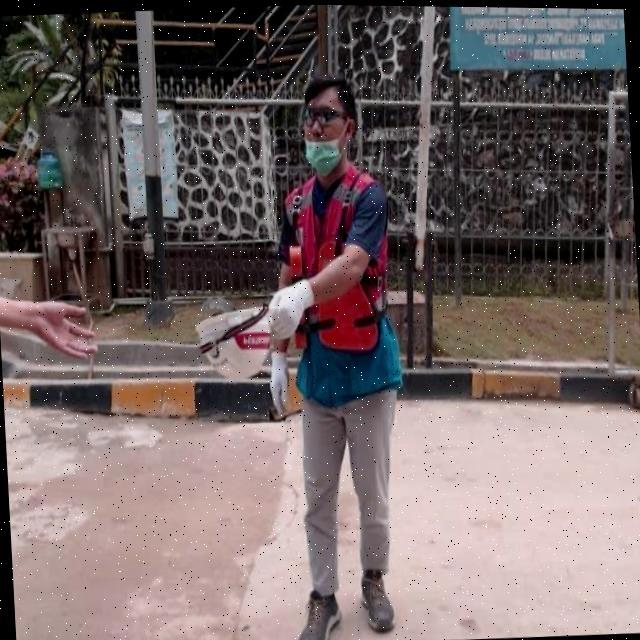goggles_on: (296, 103, 352, 129)
